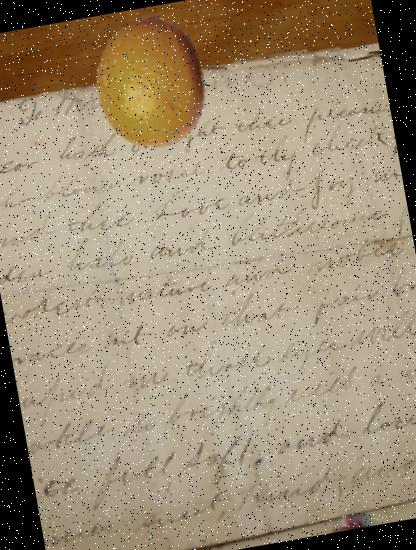Lemon: (72, 6, 228, 162)
